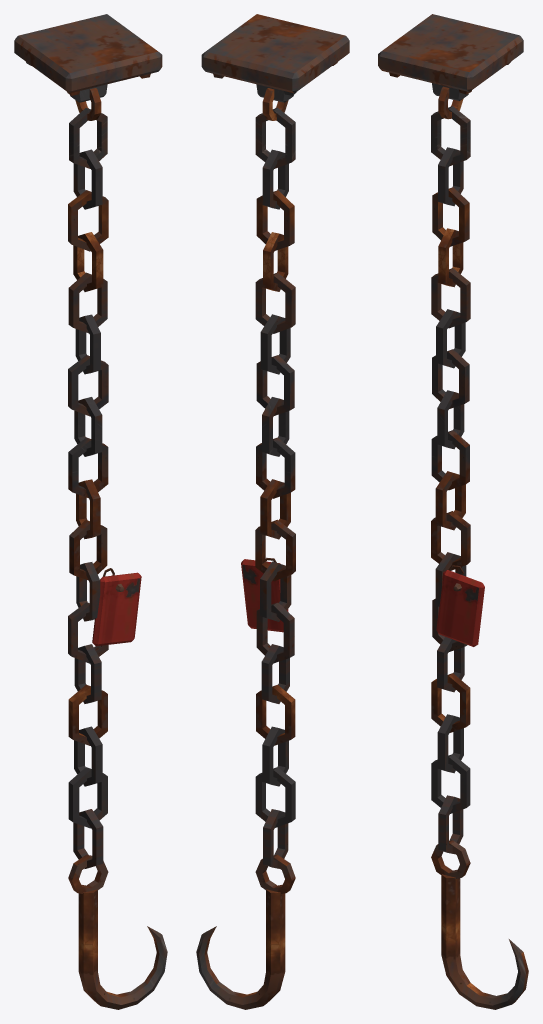
Rendered from Chain_Hook.glb.
3 renders of one model, left to right at view 1: azimuth 30°, elevation 25°; view 2: azimuth 150°, elevation 25°; view 3: azimuth 330°, elevation 25°, orthographic.
Parts seen in each view (by area): view 1: Chain_Hook; view 2: Chain_Hook; view 3: Chain_Hook.
Boxes of the visible parts, left/top/right/bottom form: Chain_Hook: left=14, top=14, right=167, bottom=1009; Chain_Hook: left=196, top=14, right=349, bottom=1009; Chain_Hook: left=378, top=14, right=528, bottom=1009.
Bounding box in the file's own units: 0.3921 × 2.88 × 0.3.
3 materials, 3 textured.
